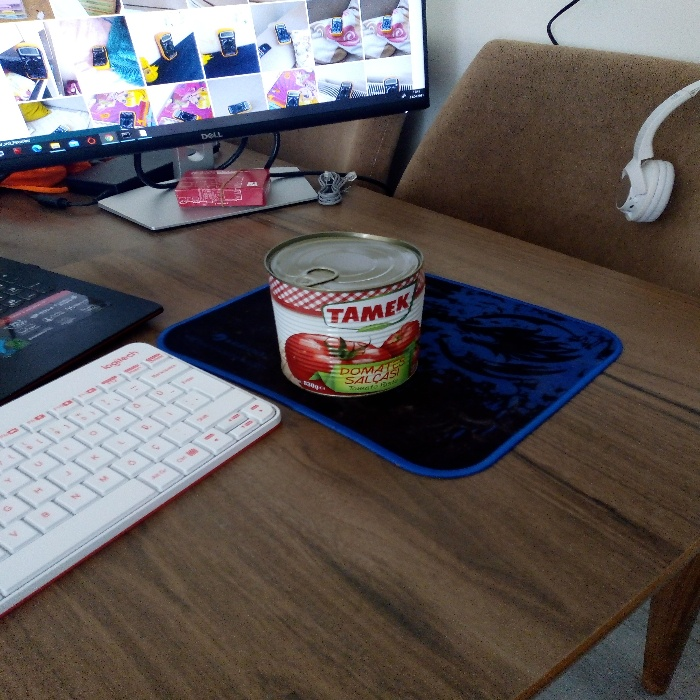salca: (257, 216, 434, 407)
